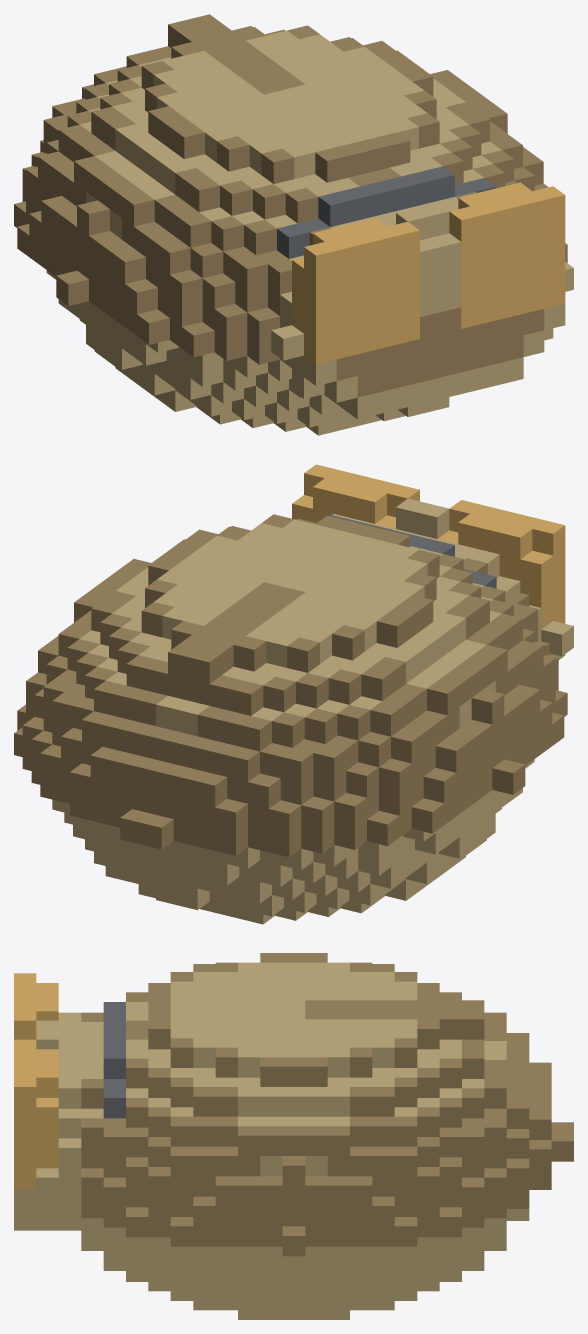
The model's file is body.glb.
3 renders of one model, top to bottom at view 1: azimuth 30°, elevation 25°; view 2: azimuth 150°, elevation 25°; view 3: azimuth 270°, elevation 25°, orthographic. The views are drawn at different scales.
Bounding box in the file's own units: 22 × 12 × 25.
